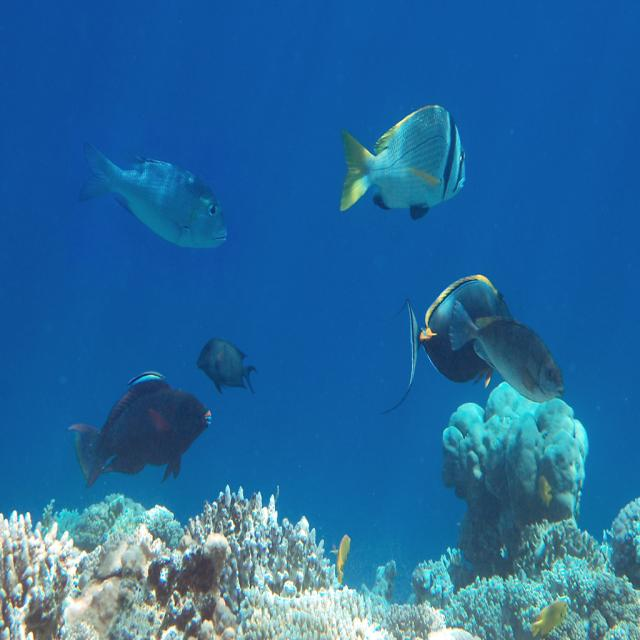Fish: (331, 77, 476, 243), (72, 130, 240, 264), (69, 353, 207, 494), (383, 269, 519, 401), (448, 286, 582, 398), (180, 331, 272, 407)
